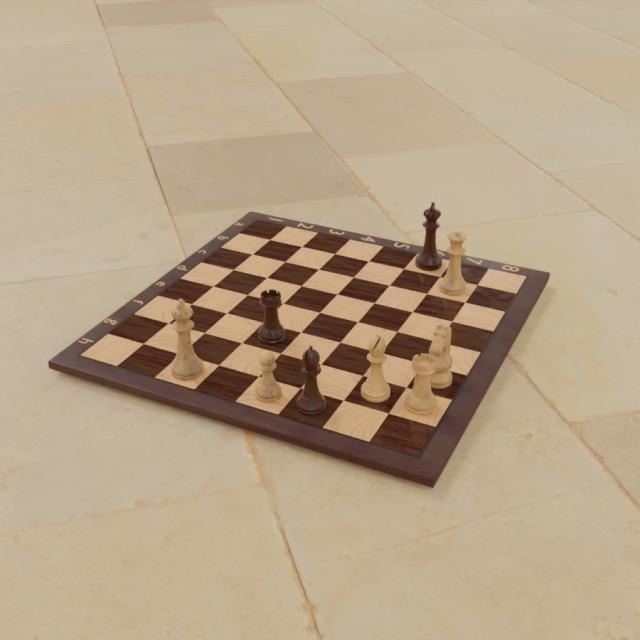black-bishop: (294, 344, 326, 417)
black-king: (415, 199, 445, 272)
black-rook: (257, 288, 287, 348)
white-bishop: (356, 331, 391, 406)
white-king: (168, 297, 204, 382)
white-knight: (422, 322, 454, 390)
white-pawn: (253, 348, 283, 406)
white-queen: (438, 228, 469, 297)
white-rook: (403, 353, 438, 417)
